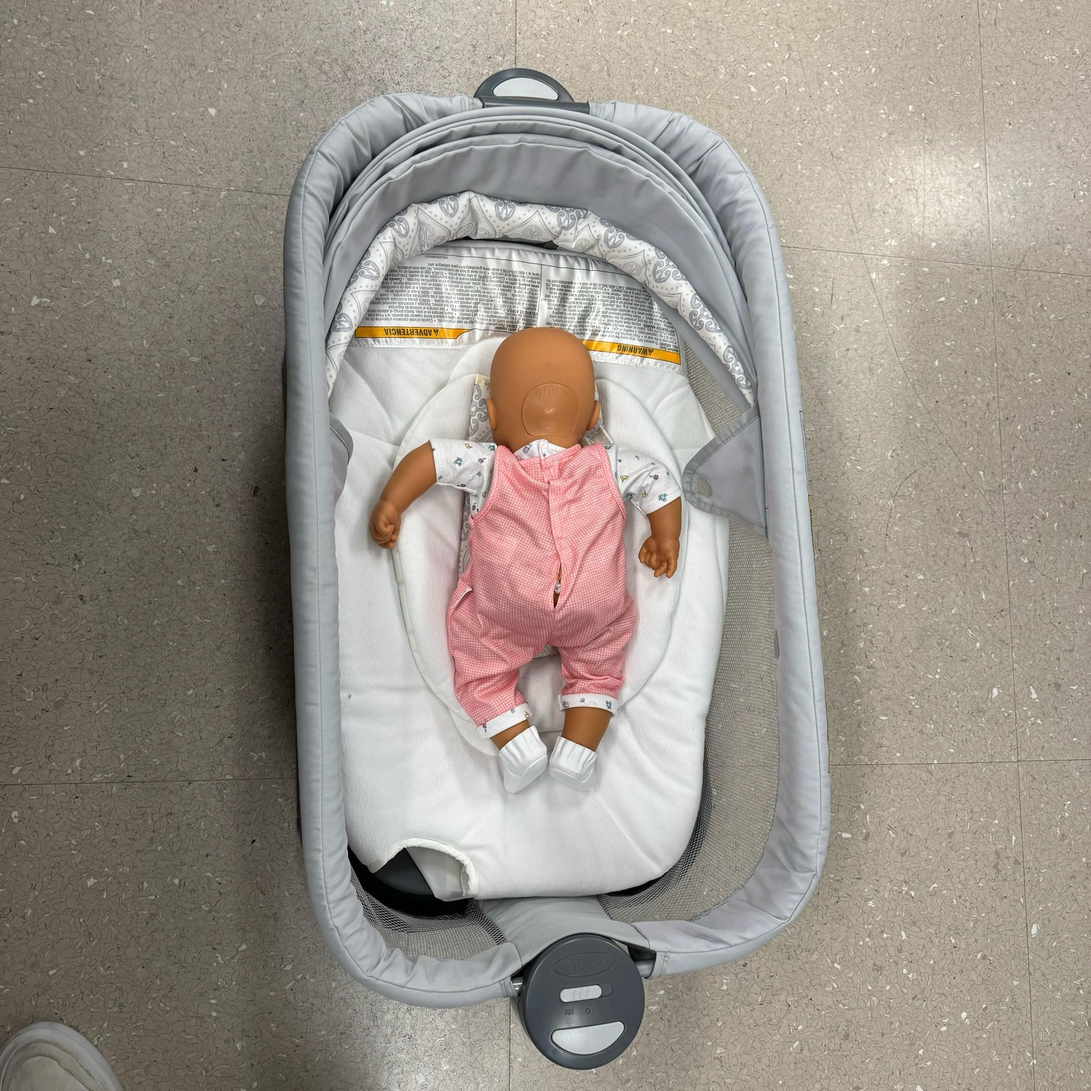baby: (369, 313, 699, 800)
